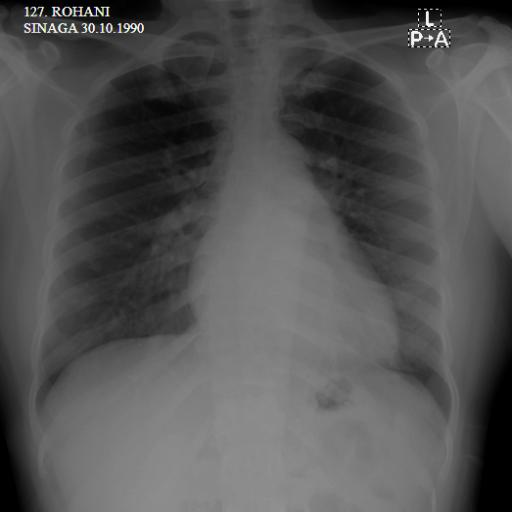kardiomegali: (29, 16, 463, 436)
